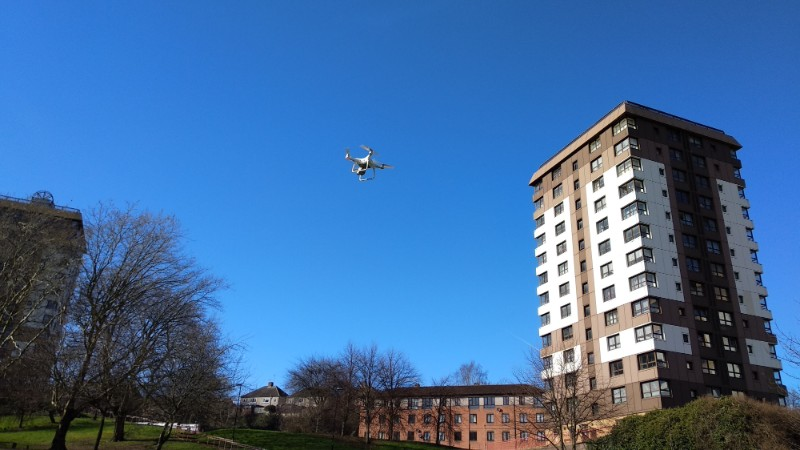drone: (343, 143, 395, 183)
